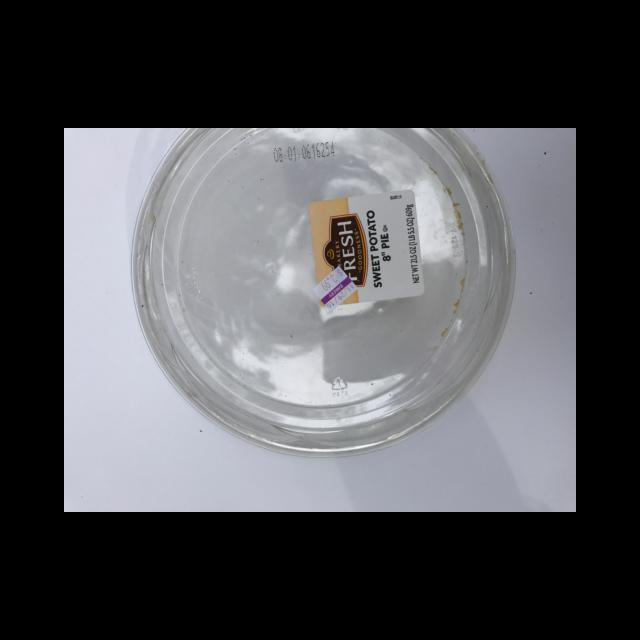plastic: (129, 128, 516, 458)
